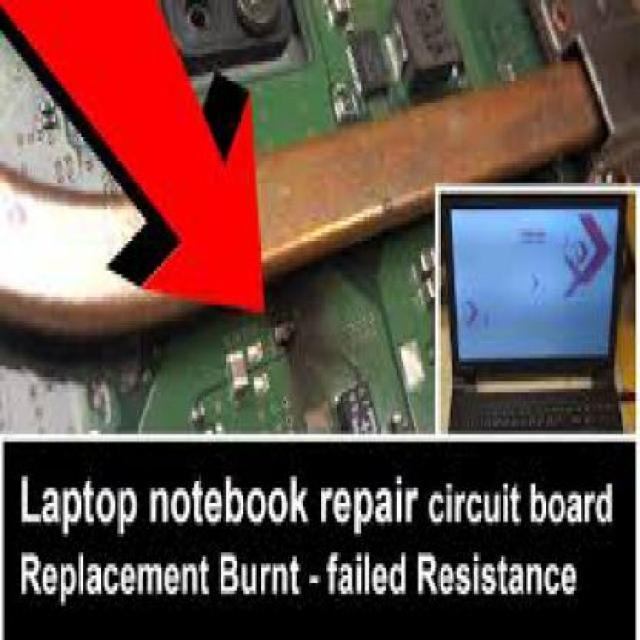Burn: (266, 284, 340, 402)
